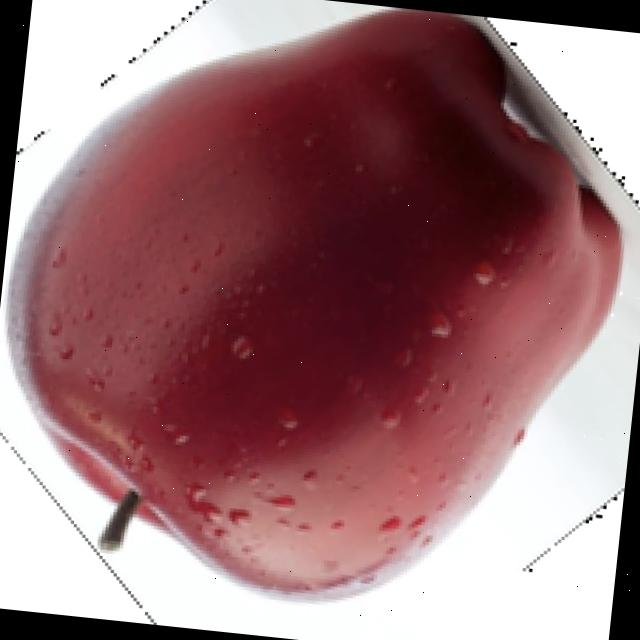apple: (0, 7, 640, 608)
